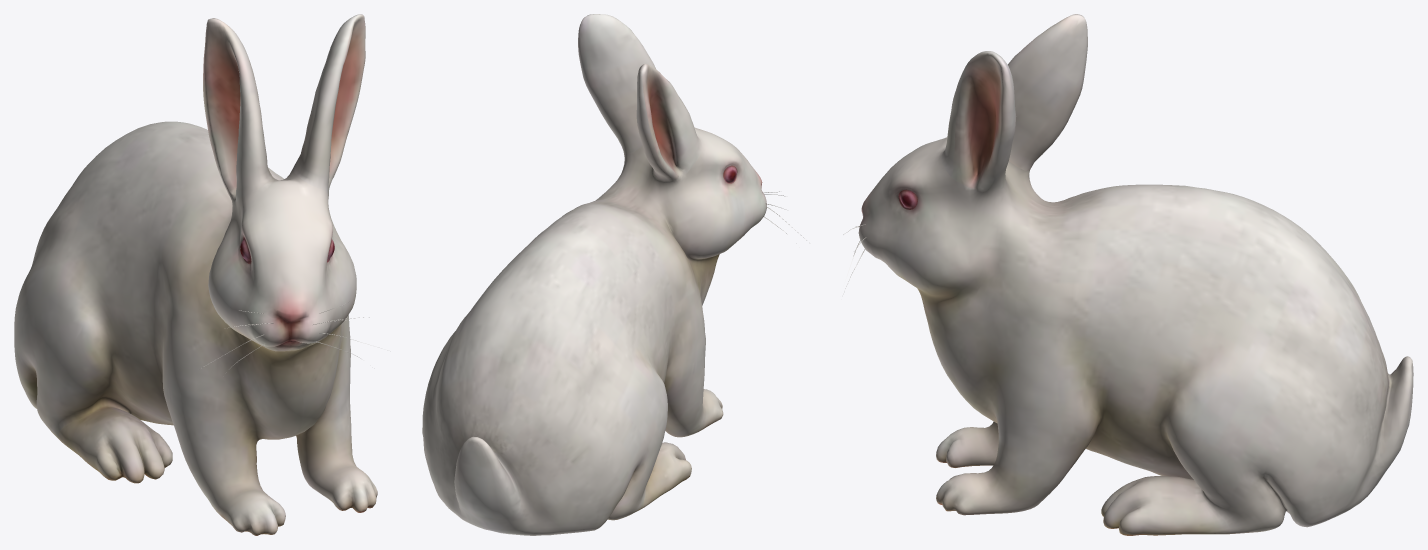
The model's file is rabbit.glb.
3 views of the same model, side by side, from view 1: azimuth 30°, elevation 25°; view 2: azimuth 150°, elevation 25°; view 3: azimuth 270°, elevation 25° (orthographic). The views are drawn at different scales.
Visible parts, largest first — view 1: Object_5; view 2: Object_5; view 3: Object_5.
Part boxes in pixels (x1,y1,x2,y2): Object_5: (14, 14, 381, 535); Object_5: (422, 14, 806, 535); Object_5: (843, 14, 1413, 535).
Bounding box in the file's own units: 0.3068 × 0.512 × 0.5753.
Materials: 1 (1 with a texture image).
